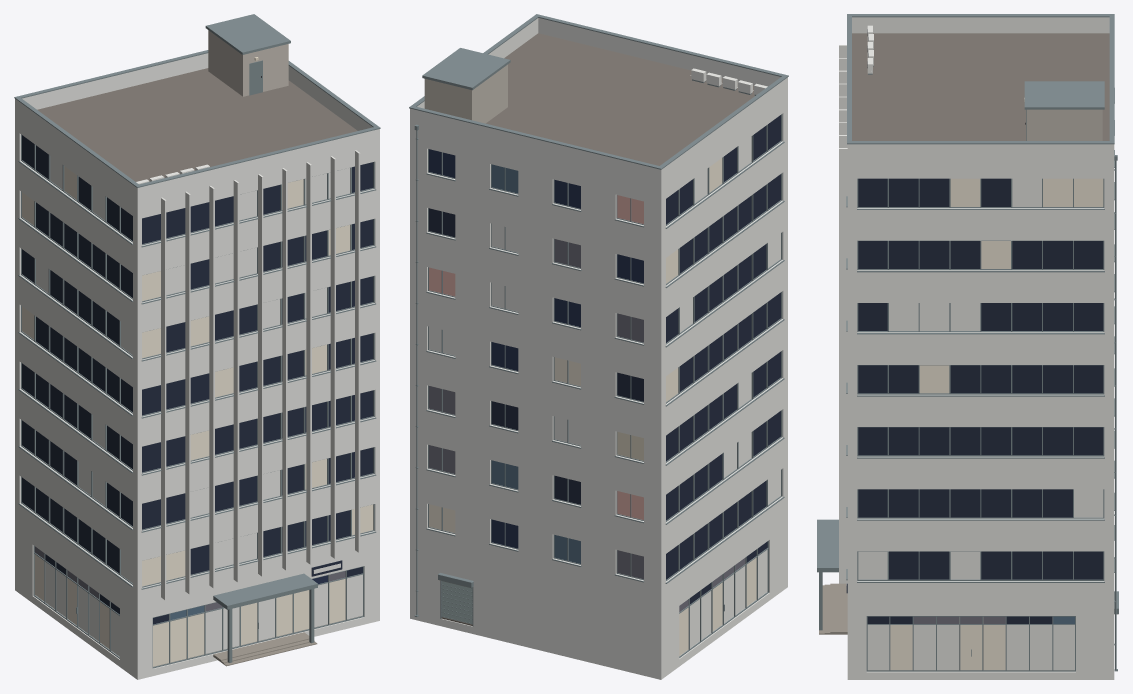
File: tb_office_building_8f_01.fbx
3 renders of one model, left to right at view 1: azimuth 30°, elevation 25°; view 2: azimuth 150°, elevation 25°; view 3: azimuth 270°, elevation 25°, orthographic. The views are drawn at different scales.
Parts seen in each view (by area): view 1: tb_office_building_8f_01; view 2: tb_office_building_8f_01; view 3: tb_office_building_8f_01.
Part boxes in pixels (x1,y1,x2,y2): tb_office_building_8f_01: [14, 14, 380, 679]; tb_office_building_8f_01: [409, 14, 788, 679]; tb_office_building_8f_01: [817, 14, 1118, 679].
Size of what is drawn, in the model's own units: 16.12 by 32.95 by 15.85.
Materials: 3 (3 with a texture image).
